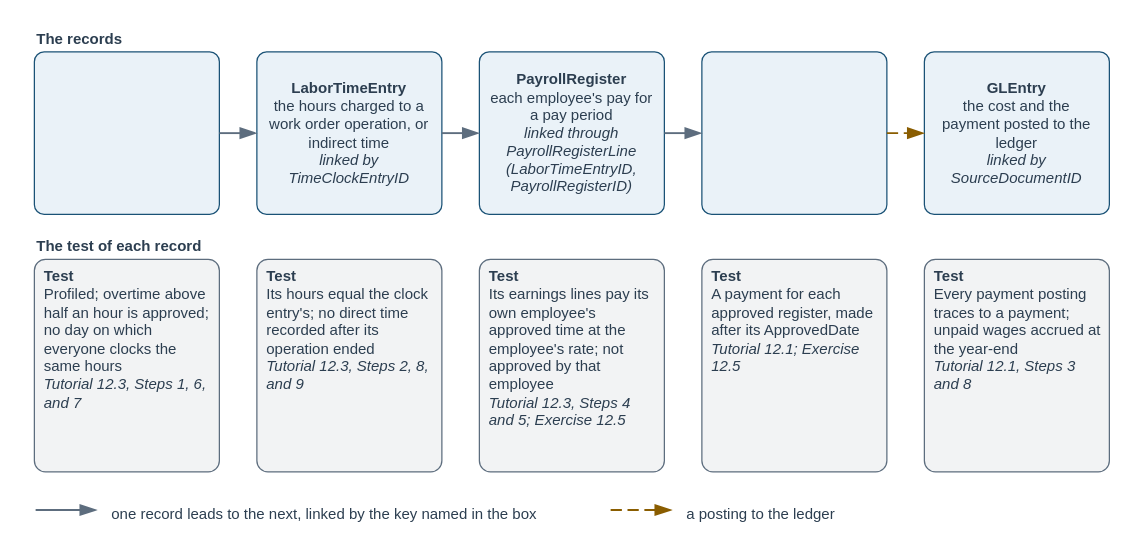
The diagram is 1133 pixels wide and 548 high, and some of its shapes have lost their labels. Here are the shapes that lost their labels. From the top down, the centre of each, then its label:
(x=126, y=132): TimeClockEntry the hours clocked each day, regular and overtime
(x=794, y=132): PayrollPayment the net pay disbursed linked by PayrollRegisterID
